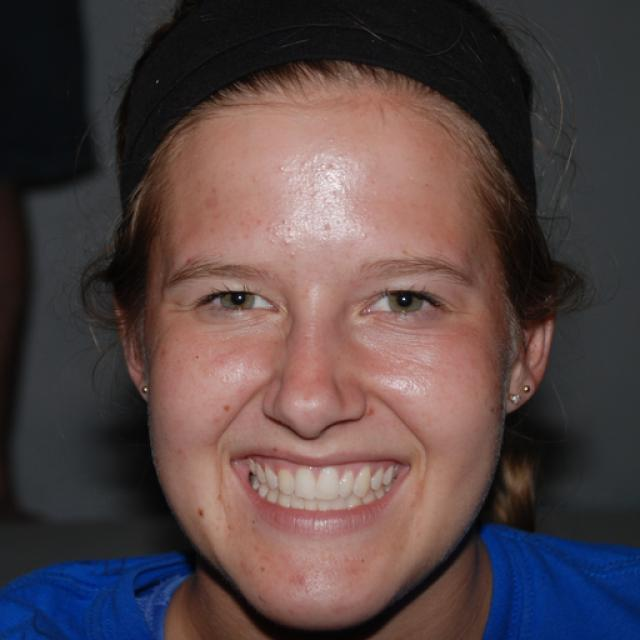Acne: (262, 218, 296, 254), (272, 151, 314, 179), (289, 567, 321, 595), (354, 219, 385, 245), (317, 220, 338, 240)
Spots: (212, 390, 238, 426), (360, 399, 377, 431), (188, 499, 205, 528)
